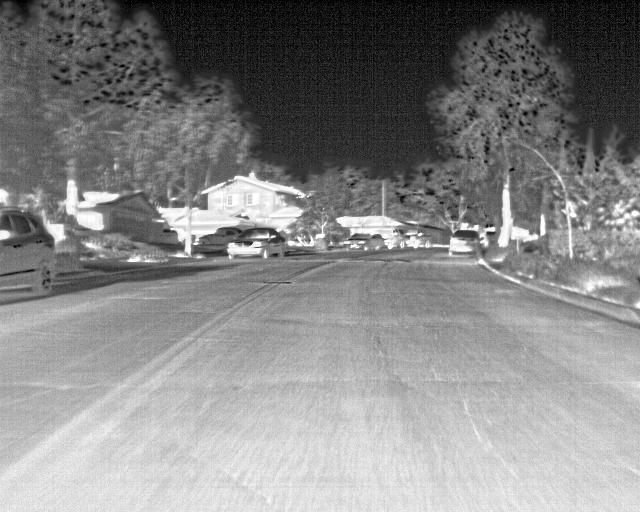car: (0, 208, 59, 304), (229, 227, 287, 259), (198, 225, 242, 254), (347, 233, 386, 256), (448, 230, 480, 255), (402, 228, 431, 250), (385, 233, 401, 248), (326, 232, 339, 250), (338, 233, 351, 248)
